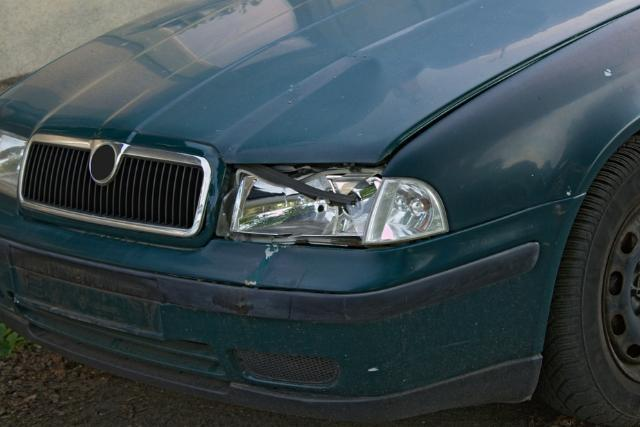Light: (221, 167, 448, 244)
